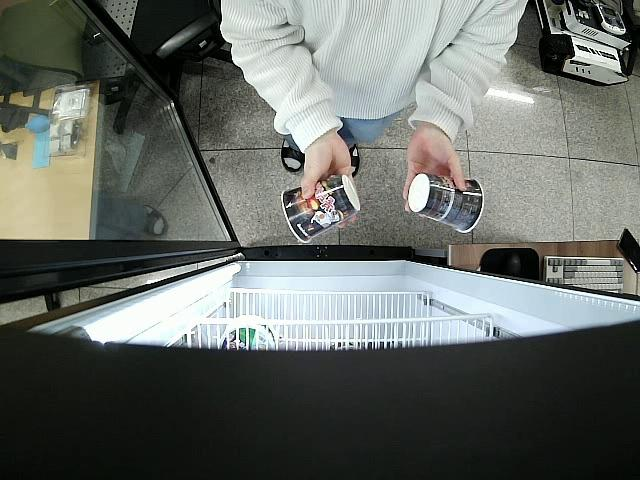00_hand: (403, 129, 467, 216), (299, 140, 359, 230)
08_buldak_S: (282, 171, 361, 241), (409, 171, 483, 235)
